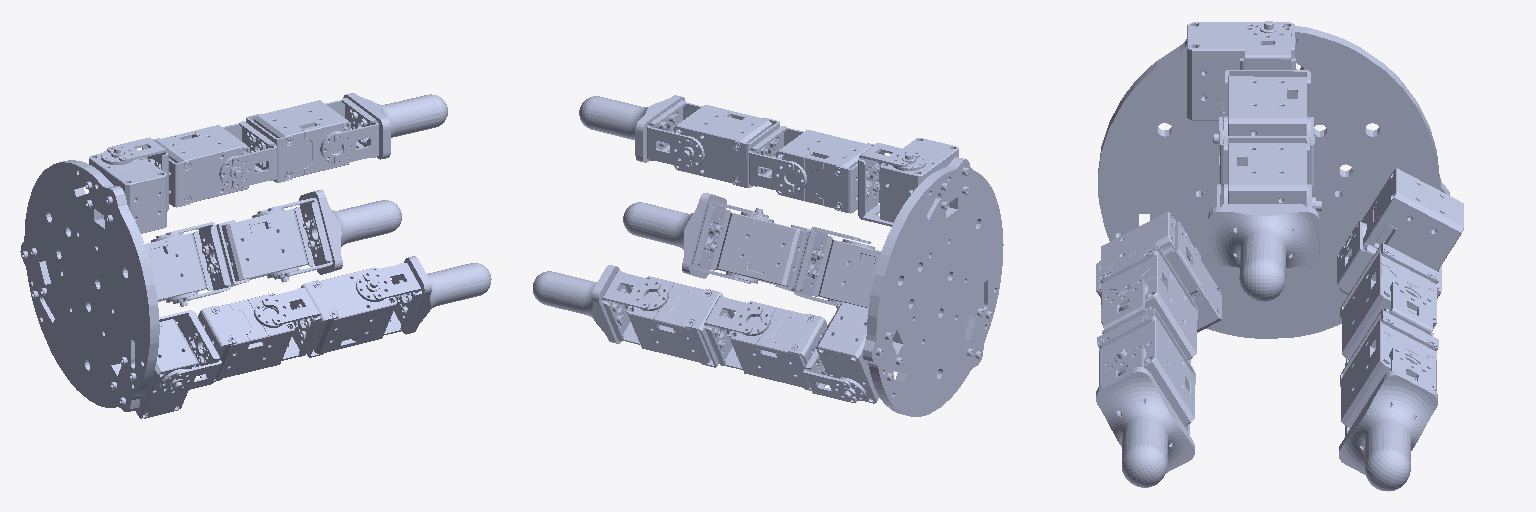
URDF robot description (dclaw_one):
<?xml version="1.0" encoding="utf-8"?>
<!-- This URDF was automatically created by SolidWorks to URDF Exporter! Originally created by [author] ([email redacted]) 
     Commit Version: 1.6.0-4-g7f85cfe  Build Version: 1.6.7995.38578
     For more information, please see http://wiki.ros.org/sw_urdf_exporter -->
<robot
  name="dclaw_one">
  <link
    name="base_link">
    <inertial>
      <origin
        xyz="0.00489149862961683 0.104296878529658 0.151166768942785"
        rpy="0 0 0" />
      <mass
        value="0.236947000285837" />
      <inertia
        ixx="0.00032097238468622"
        ixy="1.98510057684104E-17"
        ixz="6.68854259881064E-18"
        iyy="0.00016932394574155"
        iyz="1.35845013681921E-07"
        izz="0.000169165959831541" />
    </inertial>
    <visual>
      <origin
        xyz="0 0 0"
        rpy="0 0 0" />
      <geometry>
        <mesh
          filename="meshes/visual/base_link.obj" />
      </geometry>
      <material
        name="">
        <color
          rgba="0.792156862745098 0.819607843137255 0.933333333333333 1" />
      </material>
    </visual>
    <collision>   <!-- base_cylinder -->
      <origin
        xyz="0 0 0"
        rpy="0 0 0" />
      <geometry>
        <mesh
          filename="meshes/collision/base_link_cylinder.obj" />
      </geometry>
    </collision>
    <collision> <!-- base_motor_1 -->
      <origin
        xyz="0.015 0.16 0.132"
        rpy="-0.524 0 0" />
      <geometry>
        <box size="0.026 0.04 0.05"/>
      </geometry>
    </collision>    
    <collision> <!-- base_motor_2 -->
      <origin
        xyz="0.015 0.06 0.11"
        rpy="0.524 0 0" />
      <geometry>
        <box size="0.026 0.04 0.05"/>
      </geometry>
    </collision>
    <collision> <!-- base_motor_3 -->
      <origin
        xyz="0.015 0.093 0.21"
        rpy="1.57 0 0" />
      <geometry>
        <box size="0.026 0.04 0.05"/>
      </geometry>
    </collision>
  </link>
  <link
    name="link_f1_1">
    <inertial>
      <origin
        xyz="0.0532248216350863 0.00311402171605321 0.00211795578599405"
        rpy="0 0 0" />
      <mass
        value="0.0498058268425249" />
      <inertia
        ixx="8.46863084597565E-06"
        ixy="2.89910800552496E-08"
        ixz="-4.49781392189103E-11"
        iyy="1.16890452967839E-05"
        iyz="1.71733127008429E-09"
        izz="1.27963748816107E-05" />
    </inertial>
    <visual>
      <origin
        xyz="0 0 0"
        rpy="0 0 0" />
      <geometry>
        <mesh
          filename="meshes/visual/link_1.obj" />
      </geometry>
      <material
        name="">
        <color
          rgba="0.792156862745098 0.819607843137255 0.933333333333333 1" />
      </material>
    </visual>
    <collision>  <!-- link_finger1_1 -->
      <origin
        xyz="0.051 0.003 0.002"
        rpy="0 0 0" />
      <geometry>
        <box size="0.058 0.038 0.03"/>
      </geometry>
    </collision>
    <collision> 
      <origin
        xyz="0.013 0.0035 0.02"
        rpy="0 0 0" />
      <geometry>
        <box size="0.03 0.024 0.01"/>
      </geometry>
    </collision>
    <collision>  
      <origin
        xyz="0.013 0.0035 -0.015"
        rpy="0 0 0" />
      <geometry>
        <box size="0.03 0.024 0.01"/>
      </geometry>
    </collision>
  </link>
  <joint
    name="joint_f1_0"
    type="revolute">
    <origin
      xyz="0.01259 0.15653 0.11672"
      rpy="1.0472 0 0" />
    <parent
      link="base_link" />
    <child
      link="link_f1_1" />
    <axis
      xyz="0 0.0015509 1" />
    <limit
      lower="-1.32"
      upper="0.524"
      effort="10"
      velocity="100" />
  </joint>
  <link
    name="link_f1_2">
    <inertial>
      <origin
        xyz="0.0532256606289072 -0.000528170420116714 0.00010550539600146"
        rpy="0 0 0" />
      <mass
        value="0.0498058268425212" />
      <inertia
        ixx="8.46864524064936E-06"
        ixy="2.73165422789051E-08"
        ixz="-9.72114644451957E-09"
        iyy="1.10957484077287E-05"
        iyz="3.62394156462219E-09"
        izz="1.33896573759913E-05" />
    </inertial>
    <visual>
      <origin
        xyz="0 0 0"
        rpy="0 0 0" />
      <geometry>
        <mesh
          filename="meshes/visual/link_2.obj" />
      </geometry>
      <material
        name="">
        <color
          rgba="0.792156862745098 0.819607843137255 0.933333333333333 1" />
      </material>
    </visual>
    <collision>  <!-- link_finger1_2 -->
      <origin
        xyz="0.051 -0.001 0"
        rpy="0 0 0" />
      <geometry>
        <box size="0.058 0.038 0.03"/>
      </geometry>
    </collision>
    <collision> 
      <origin
        xyz="0.013 0.018 0"
        rpy="0 0 0" />
      <geometry>
        <box size="0.03 0.01 0.024"/>
      </geometry>
    </collision>
    <collision>  
      <origin
        xyz="0.013 -0.02 0"
        rpy="0 0 0" />
      <geometry>
        <box size="0.03 0.01 0.024"/>
      </geometry>
    </collision>
  </link>
  <joint
    name="joint_f1_1"
    type="revolute">
    <origin
      xyz="0.0685 0.0034508 0.0021174"
      rpy="0 0 0" />
    <parent
      link="link_f1_1" />
    <child
      link="link_f1_2" />
    <axis
      xyz="0.002797 0.99999 -0.0015509" />
    <limit
      lower="-1.57"
      upper="1.57"
      effort="10"
      velocity="100" />
  </joint>
  <link
    name="link_f1_3">
    <inertial>
      <origin
        xyz="0.0447525686799266 0.000422407676985315 3.5217064236287E-05"
        rpy="0 0 0" />
      <mass
        value="0.0257089354251149" />
      <inertia
        ixx="3.47693706193249E-06"
        ixy="-3.5084580449322E-08"
        ixz="-4.12123429490332E-09"
        iyy="7.19333683603787E-06"
        iyz="2.27571761738968E-09"
        izz="8.6859666162003E-06" />
    </inertial>
    <visual>
      <origin
        xyz="0 0 0"
        rpy="0 0 0" />
      <geometry>
        <mesh
          filename="meshes/visual/link_3.obj" />
      </geometry>
      <material
        name="">
        <color
          rgba="0.792156862745098 0.819607843137255 0.933333333333333 1" />
      </material>
    </visual>
    <collision>   <!-- link_finger1_3 -->
      <origin
        xyz="0 0 0"
        rpy="0 0 0" />
      <geometry>
        <mesh
          filename="meshes/collision/finger_tip.obj" />
      </geometry>
    </collision>
    <collision> 
      <origin
        xyz="0.013 0.019 0"
        rpy="0 0 0" />
      <geometry>
        <box size="0.03 0.01 0.024"/>
      </geometry>
    </collision>
    <collision>  
      <origin
        xyz="0.013 -0.018 0"
        rpy="0 0 0" />
      <geometry>
        <box size="0.03 0.01 0.024"/>
      </geometry>
    </collision>
  </link>
  <joint
    name="joint_f1_2"
    type="revolute">
    <origin
      xyz="0.0685 -0.00019138 0.00013502"
      rpy="5.0386E-05 -0.0053479 -0.012226" />
    <parent
      link="link_f1_2" />
    <child
      link="link_f1_3" />
    <axis
      xyz="0.009437 -0.99995 0.0015508" />
    <limit
      lower="-1.57"
      upper="1.57"
      effort="10"
      velocity="100" />
  </joint>
  <link
    name="link_f3_1">
    <inertial>
      <origin
        xyz="0.0532273786871815 0.00204323160874878 0.0014772410019137"
        rpy="0 0 0" />
      <mass
        value="0.0498058268428492" />
      <inertia
        ixx="8.46838982988317E-06"
        ixy="-8.01594764629859E-09"
        ixz="1.24149901512897E-11"
        iyy="1.16892863123197E-05"
        iyz="1.71695727091324E-09"
        izz="1.27963748822011E-05" />
    </inertial>
    <visual>
      <origin
        xyz="0 -0.002 -0.001"
        rpy="0 0 0" />
      <geometry>
        <mesh
          filename="meshes/visual/link_1.obj" />
      </geometry>
      <material
        name="">
        <color
          rgba="0.792156862745098 0.819607843137255 0.933333333333333 1" />
      </material>
    </visual>
    <collision>  <!-- link_finger3_1 -->
      <origin
        xyz="0.051 0.001 0.001"
        rpy="0 0 0" />
      <geometry>
        <box size="0.058 0.038 0.03"/>
      </geometry>
    </collision>
    <collision> 
      <origin
        xyz="0.013 0.0015 0.019"
        rpy="0 0 0" />
      <geometry>
        <box size="0.03 0.024 0.01"/>
      </geometry>
    </collision>
    <collision>  
      <origin
        xyz="0.013 0.0015 -0.016"
        rpy="0 0 0" />
      <geometry>
        <box size="0.03 0.024 0.01"/>
      </geometry>
    </collision>
  </link>
  <joint
    name="joint_f3_0"
    type="revolute">
    <origin
      xyz="0.01259 0.054291 0.12015"
      rpy="2.0944 0 0" />
    <parent
      link="base_link" />
    <child
      link="link_f3_1" />
    <axis
      xyz="0 0.0015509 1" />
    <limit
      lower="1.32"
      upper="-0.524"
      effort="10"
      velocity="100" />
  </joint>
  <link
    name="link_f3_2">
    <inertial>
      <origin
        xyz="0.0532217198000356 -0.000842177831587548 -1.7966846822301E-05"
        rpy="0 0 0" />
      <mass
        value="0.0498058268428485" />
      <inertia
        ixx="8.46904047387E-06"
        ixy="4.28219566017898E-08"
        ixz="1.71535332085209E-09"
        iyy="1.10953345079831E-05"
        iyz="3.53551223470956E-09"
        izz="1.33896760425511E-05" />
    </inertial>
    <visual>
      <origin
        xyz="0 0 0"
        rpy="0 0 0" />
      <geometry>
        <mesh
          filename="meshes/visual/link_2.obj" />
      </geometry>
      <material
        name="">
        <color
          rgba="0.792156862745098 0.819607843137255 0.933333333333333 1" />
      </material>
    </visual>
    <collision>  <!-- link_finger3_2 -->
      <origin
        xyz="0.051 -0.001 0"
        rpy="0 0 0" />
      <geometry>
        <box size="0.058 0.038 0.03"/>
      </geometry>
    </collision>
    <collision> 
      <origin
        xyz="0.013 0.018 0"
        rpy="0 0 0" />
      <geometry>
        <box size="0.03 0.01 0.024"/>
      </geometry>
    </collision>
    <collision>  
      <origin
        xyz="0.013 -0.02 0"
        rpy="0 0 0" />
      <geometry>
        <box size="0.03 0.01 0.024"/>
      </geometry>
    </collision>
  </link>
  <joint
    name="joint_f3_1"
    type="revolute">
    <origin
      xyz="0.068497 0.0025555 0.0014764"
      rpy="3.1416 0 0" />
    <parent
      link="link_f3_1" />
    <child
      link="link_f3_2" />
    <axis
      xyz="0.008693 0.99996 -0.0015508" />
    <limit
      lower="-1.57"
      upper="1.57"
      effort="10"
      velocity="100" />
  </joint>
  <link
    name="link_f3_3">
    <inertial>
      <origin
        xyz="0.0447525685584149 0.000422407042305367 3.52170873552105E-05"
        rpy="0 0 0" />
      <mass
        value="0.0257089352268153" />
      <inertia
        ixx="3.47693709226501E-06"
        ixy="-3.50846656790921E-08"
        ixz="-4.12123314507831E-09"
        iyy="7.1933368174696E-06"
        iyz="2.2757165170833E-09"
        izz="8.6859667198228E-06" />
    </inertial>
    <visual>
      <origin
        xyz="0 0 0"
        rpy="0 0 0" />
      <geometry>
        <mesh
          filename="meshes/visual/link_3.obj" />
      </geometry>
      <material
        name="">
        <color
          rgba="0.792156862745098 0.819607843137255 0.933333333333333 1" />
      </material>
    </visual>
    <collision>   <!-- link_finger3_3 -->
      <origin
        xyz="0 0 0"
        rpy="0 0 0" />
      <geometry>
        <mesh
          filename="meshes/collision/finger_tip.obj" />
      </geometry>
    </collision>
    <collision> 
      <origin
        xyz="0.013 0.019 0"
        rpy="0 0 0" />
      <geometry>
        <box size="0.03 0.01 0.024"/>
      </geometry>
    </collision>
    <collision>  
      <origin
        xyz="0.013 -0.018 0"
        rpy="0 0 0" />
      <geometry>
        <box size="0.03 0.01 0.024"/>
      </geometry>
    </collision>
  </link>
  <joint
    name="joint_f3_2"
    type="revolute">
    <origin
      xyz="0.068497 -0.00059551 -2.388E-05"
      rpy="-3.1415 0.0055256 0.00073564" />
    <parent
      link="link_f3_2" />
    <child
      link="link_f3_3" />
    <axis
      xyz="0.009437 -0.99995 0.0015508" />
    <limit
      lower="-1.57"
      upper="1.57"
      effort="10"
      velocity="100" />
  </joint>
  <link
    name="link_f2_1">
    <inertial>
      <origin
        xyz="0.0532162108086513 -0.00104500494052266 0.00125173585010976"
        rpy="0 0 0" />
      <mass
        value="0.0498058268421405" />
      <inertia
        ixx="8.46960960992939E-06"
        ixy="6.31786379441595E-08"
        ixz="-9.79986530619769E-11"
        iyy="1.16880665350816E-05"
        iyz="1.71884936887896E-09"
        izz="1.27963748792538E-05" />
    </inertial>
    <visual>
      <origin
        xyz="0 -0.004 -0.001"
        rpy="0 0 0" />
      <geometry>
        <mesh
          filename="meshes/visual/link_1.obj" />
      </geometry>
      <material
        name="">
        <color
          rgba="0.792156862745098 0.819607843137255 0.933333333333333 1" />
      </material>
    </visual>
    <collision>  <!-- link_finger2_1 -->
      <origin
        xyz="0.051 -0.001 0.001"
        rpy="0 0 0" />
      <geometry>
        <box size="0.058 0.038 0.03"/>
      </geometry>
    </collision>
    <collision> 
      <origin
        xyz="0.013 -0.0005 0.019"
        rpy="0 0 0" />
      <geometry>
        <box size="0.03 0.024 0.01"/>
      </geometry>
    </collision>
    <collision>  
      <origin
        xyz="0.013 -0.0005 -0.016"
        rpy="0 0 0" />
      <geometry>
        <box size="0.03 0.024 0.01"/>
      </geometry>
    </collision>
  </link>
  <joint
    name="joint_f2_0"
    type="revolute">
    <origin
      xyz="0.01259 0.10439 0.21026"
      rpy="0 0 0" />
    <parent
      link="base_link" />
    <child
      link="link_f2_1" />
    <axis
      xyz="0 0.0015509 1" />
    <limit
      lower="1.32"
      upper="-0.524"
      effort="10"
      velocity="100" />
  </joint>
  <link
    name="link_f2_2">
    <inertial>
      <origin
        xyz="0.0532267906026451 0.000334993717233029 0.000239971101808734"
        rpy="0 0 0" />
      <mass
        value="0.0498058268421658" />
      <inertia
        ixx="8.46853104830228E-06"
        ixy="-1.53010576269326E-08"
        ixz="-2.22102058549448E-08"
        iyy="1.10959431737327E-05"
        iyz="3.34913469007014E-09"
        izz="1.33895768022292E-05" />
    </inertial>
    <visual>
      <origin
        xyz="0 0 0"
        rpy="0 0 0" />
      <geometry>
        <mesh
          filename="meshes/visual/link_2.obj" />
      </geometry>
      <material
        name="">
        <color
          rgba="0.792156862745098 0.819607843137255 0.933333333333333 1" />
      </material>
    </visual>
    <collision>  <!-- link_finger2_2 -->
      <origin
        xyz="0.051 -0.001 0"
        rpy="0 0 0" />
      <geometry>
        <box size="0.058 0.038 0.03"/>
      </geometry>
    </collision>
    <collision> 
      <origin
        xyz="0.013 0.018 0"
        rpy="0 0 0" />
      <geometry>
        <box size="0.03 0.01 0.024"/>
      </geometry>
    </collision>
    <collision>  
      <origin
        xyz="0.013 -0.02 0"
        rpy="0 0 0" />
      <geometry>
        <box size="0.03 0.01 0.024"/>
      </geometry>
    </collision>
  </link>
  <joint
    name="joint_f2_1"
    type="revolute">
    <origin
      xyz="0.068494 -0.00087048 0.0012515"
      rpy="-3.1416 0 0" />
    <parent
      link="link_f2_1" />
    <child
      link="link_f2_2" />
    <axis
      xyz="-0.013415 0.99991 -0.0015507" />
    <limit
      lower="-1.57"
      upper="1.57"
      effort="10"
      velocity="100" />
  </joint>
  <link
    name="link_f2_3">
    <inertial>
      <origin
        xyz="0.0447525687878317 0.000422408327664103 3.52167504537315E-05"
        rpy="0 0 0" />
      <mass
        value="0.0257089351770314" />
      <inertia
        ixx="3.47693702311951E-06"
        ixy="-3.50844968710218E-08"
        ixz="-4.12129791372662E-09"
        iyy="7.1933368618767E-06"
        iyz="2.27567415751891E-09"
        izz="8.68596651289564E-06" />
    </inertial>
    <visual>
      <origin
        xyz="0 0 0"
        rpy="0 0 0" />
      <geometry>
        <mesh
          filename="meshes/visual/link_3.obj" />
      </geometry>
      <material
        name="">
        <color
          rgba="0.792156862745098 0.819607843137255 0.933333333333333 1" />
      </material>
    </visual>
    <collision>   <!-- link_finger2_3 -->
      <origin
        xyz="0 0 0"
        rpy="0 0 0" />
      <geometry>
        <mesh
          filename="meshes/collision/finger_tip.obj" />
      </geometry>
    </collision>
    <collision> 
      <origin
        xyz="0.013 0.019 0"
        rpy="0 0 0" />
      <geometry>
        <box size="0.03 0.01 0.024"/>
      </geometry>
    </collision>
    <collision>  
      <origin
        xyz="0.013 -0.018 0"
        rpy="0 0 0" />
      <geometry>
        <box size="0.03 0.01 0.024"/>
      </geometry>
    </collision>
  </link>
  <joint
    name="joint_f2_2"
    type="revolute">
    <origin
      xyz="0.068493 0.00091942 0.00030807"
      rpy="3.1415 -0.0055616 0.022862" />
    <parent
      link="link_f2_2" />
    <child
      link="link_f2_3" />
    <axis
      xyz="0.009437 -0.99995 0.0015508" />
    <limit
      lower="-1.57"
      upper="1.57"
      effort="10"
      velocity="100" />
  </joint>
</robot>

--- What the picture shows (computed from the rendered views, not written in the file) ---
Views: 3 orthographic renders of the robot side by side, from view 1: azimuth 30°, elevation 25°; view 2: azimuth 150°, elevation 25°; view 3: azimuth 270°, elevation 25°.
Robot: dclaw_one — 10 links, 9 joints (9 revolute); root link base_link; default pose: every joint at zero.
Visible links, largest first — view 1: base_link, link_f3_2, link_f3_1, link_f2_2, link_f1_2, link_f2_1, link_f1_3, link_f3_3, link_f2_3, link_f1_1; view 2: base_link, link_f1_2, link_f2_2, link_f2_1, link_f3_2, link_f1_1, link_f3_3, link_f1_3, link_f2_3, link_f3_1; view 3: base_link, link_f2_3, link_f3_3, link_f1_3, link_f2_1, link_f2_2, link_f1_1, link_f3_1, link_f1_2, link_f3_2.
Boxes of the visible links, x1,y1,x2,y2 form: base_link: (20, 147, 198, 418); link_f3_2: (262, 267, 396, 360); link_f3_1: (159, 293, 295, 393); link_f2_2: (223, 100, 350, 188); link_f1_2: (156, 208, 307, 303); link_f2_1: (107, 125, 249, 211); link_f1_3: (257, 190, 401, 279); link_f3_3: (363, 256, 491, 334); link_f2_3: (326, 93, 447, 164); link_f1_1: (145, 232, 206, 306); base_link: (816, 138, 1003, 416); link_f1_2: (626, 276, 762, 369); link_f2_2: (674, 105, 803, 193); link_f2_1: (776, 130, 919, 226); link_f3_2: (716, 208, 870, 305); link_f1_1: (729, 301, 856, 402); link_f3_3: (623, 193, 768, 283); link_f1_3: (533, 265, 660, 344); link_f2_3: (579, 95, 701, 168); link_f3_1: (818, 239, 881, 308); base_link: (1098, 21, 1463, 338); link_f2_3: (1208, 184, 1319, 301); link_f3_3: (1096, 344, 1194, 487); link_f1_3: (1339, 348, 1437, 491); link_f2_1: (1213, 26, 1310, 143); link_f2_2: (1219, 117, 1321, 210); link_f1_1: (1337, 221, 1441, 359); link_f3_1: (1096, 221, 1200, 359); link_f1_2: (1340, 280, 1438, 427); link_f3_2: (1097, 278, 1195, 425).
Bounding box of the posed robot: 0.2437 × 0.159 × 0.1575 m (x, y, z).
Meshes: 4 distinct files referenced, 10 mesh visuals loaded (4 OBJ).
